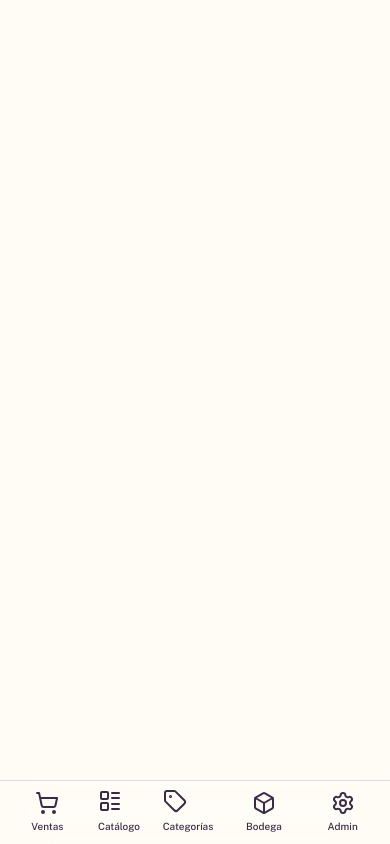
Test: BottomNav — solo MVP (sheets abiertos) › sheet Ventas › SI contiene Sala de Venta y Caja Mayor (Kardex diferido)
Click the button "Ventas" at (47, 812), box x1=19 y1=781 x2=75 y2=843
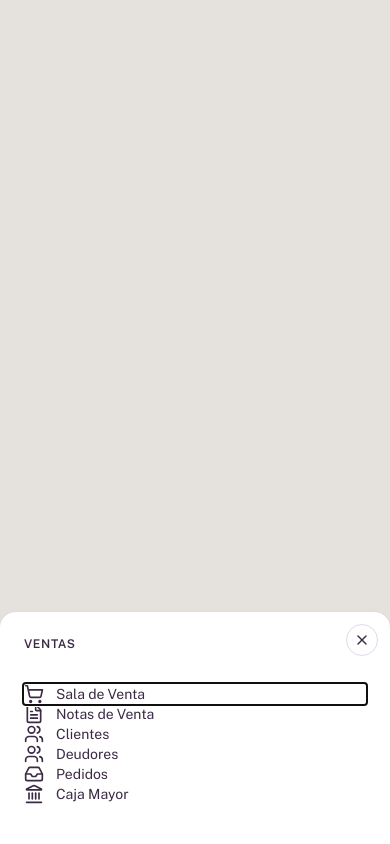
Check: the text "Sala de Venta" is shown, box x1=24 y1=684 x2=145 y2=704
Check: the text "Caja Mayor" is shown, box x1=24 y1=784 x2=129 y2=804
